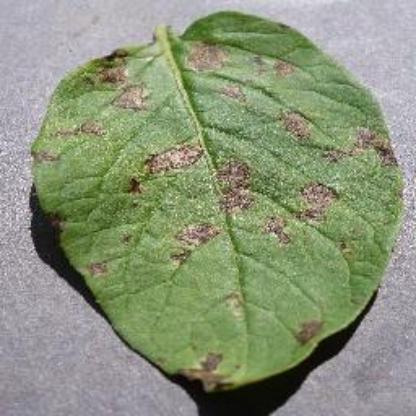Early-Blight: (27, 12, 415, 398)
